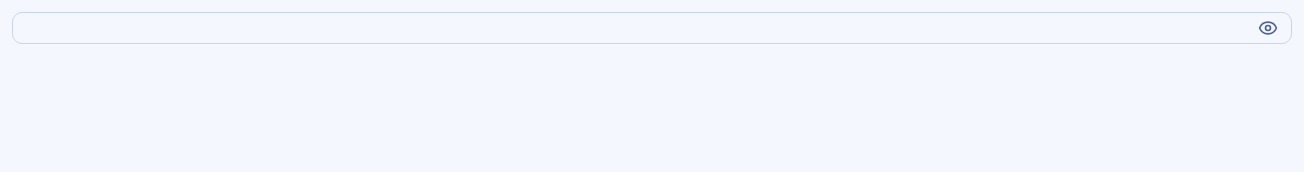
password visibility › hides the password until the eye is tapped and keeps what was typed
Type "secret-word" into the password field named "Password".
click(652, 28); type("secret-word")  # box [12, 12, 1292, 44]
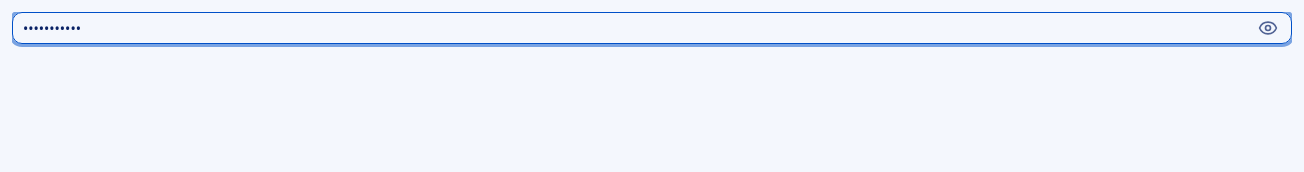
Click the button named "Show password".
click(1268, 28)  # box [1244, 12, 1292, 44]
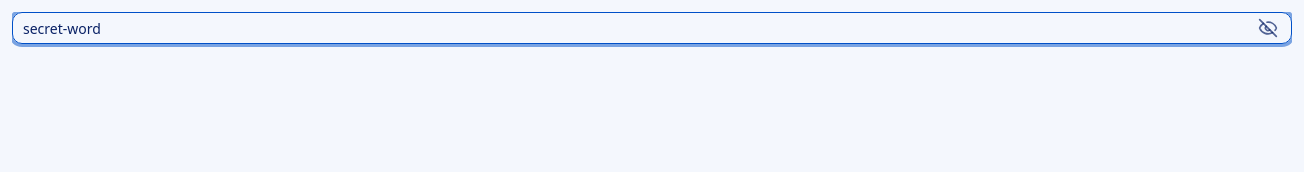
Expected: the field named "Password" shows its text, [12, 12, 1292, 44]
Click the button named "Hide password".
click(1268, 28)  # box [1244, 12, 1292, 44]
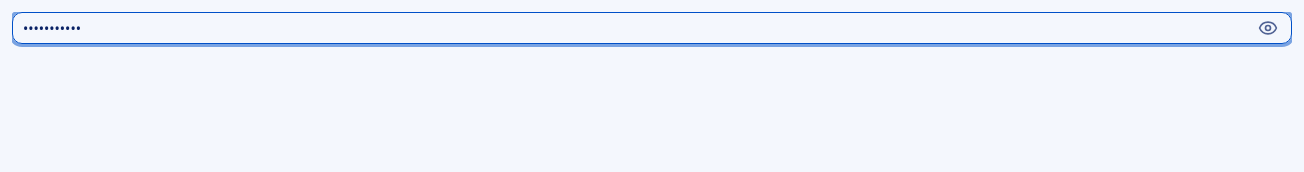
Expected: the password field named "Password" hides its text, [12, 12, 1292, 44]
